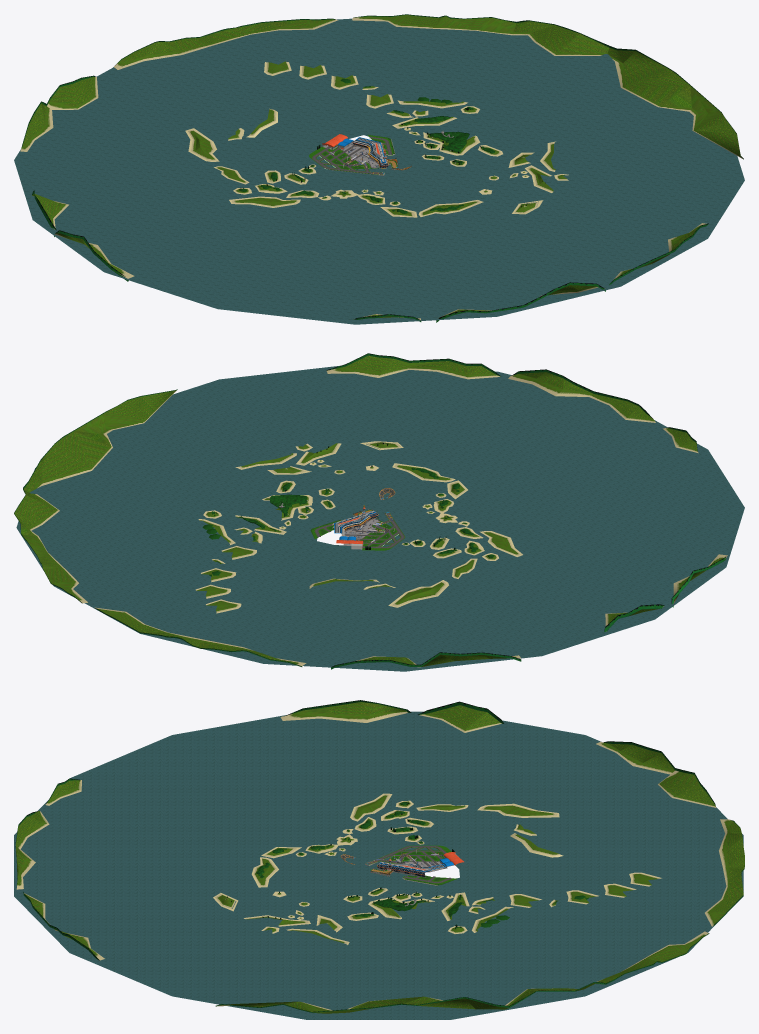
The model's file is sunshine_airportsunset.glb.
3 renders of one model, top to bottom at view 1: azimuth 30°, elevation 25°; view 2: azimuth 150°, elevation 25°; view 3: azimuth 270°, elevation 25°, orthographic.
Visible parts, largest first — view 1: Object_18, Object_46, Object_45, Object_47, Object_9, Object_70, Object_42; view 2: Object_18, Object_46, Object_45, Object_47, Object_9, Object_70, Object_42; view 3: Object_18, Object_46, Object_45, Object_47, Object_9, Object_42, Object_70.
Part boxes in pixels (x1,y1,x2,y2): Object_18: (14,18,744,324); Object_46: (20,15,743,319); Object_45: (185,62,568,217); Object_47: (21,14,743,322); Object_9: (239,78,495,213); Object_70: (312,136,392,174); Object_42: (309,135,397,174); Object_18: (16,365,744,671); Object_46: (14,355,727,667); Object_45: (195,441,522,613); Object_47: (14,353,726,669); Object_9: (202,468,494,576); Object_70: (314,513,404,548); Object_42: (312,510,405,550); Object_18: (14,711,743,1019); Object_46: (15,702,744,1013); Object_45: (213,793,661,944); Object_47: (15,700,744,1012); Object_9: (256,802,588,929); Object_42: (366,845,457,884); Object_70: (367,846,451,883).
Size of what is drawn, in the model's own units: 2056 by 66.25 by 2060.
Materials: 76 (67 with a texture image).
